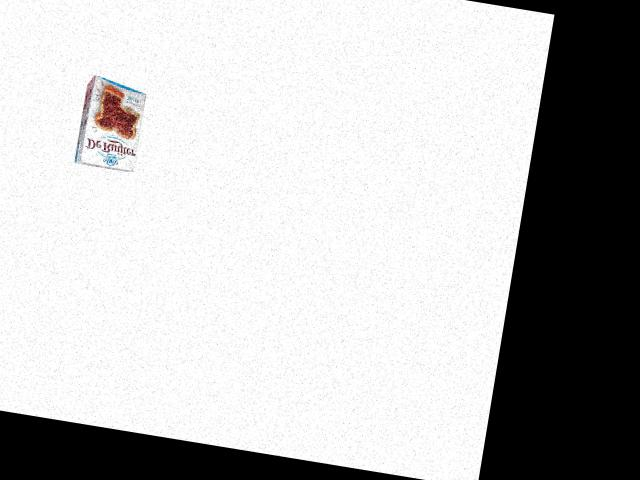chocolate: (65, 75, 156, 179)
